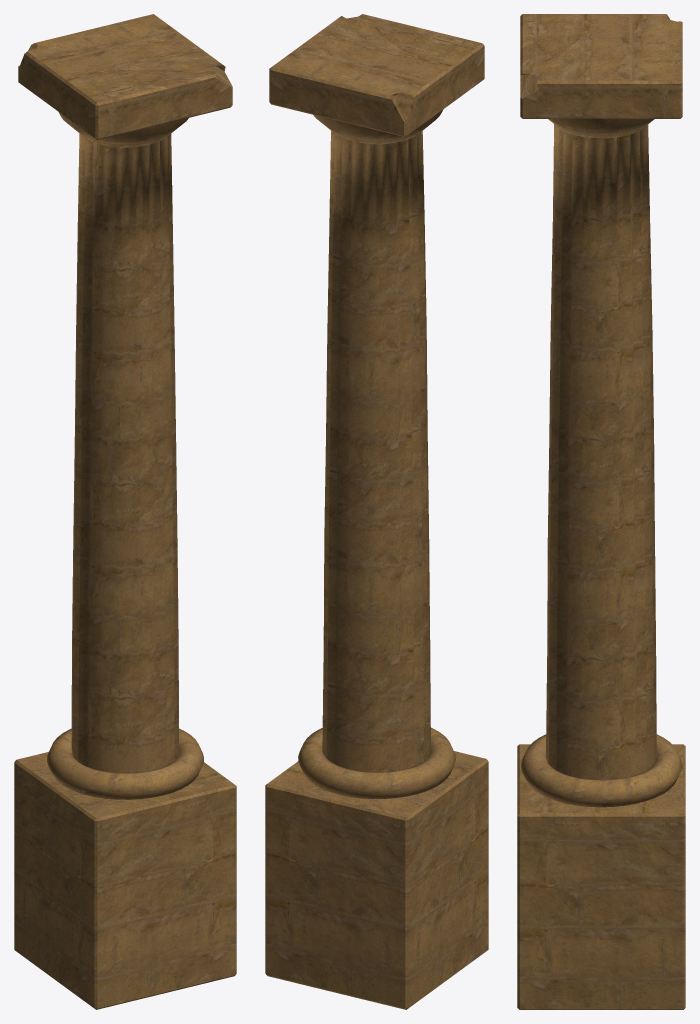
The model's file is column_intact.glb.
3 views of the same model, side by side, from view 1: azimuth 30°, elevation 25°; view 2: azimuth 150°, elevation 25°; view 3: azimuth 270°, elevation 25° (orthographic). The views are drawn at different scales.
Visible parts, largest first — view 1: column_intact; view 2: column_intact; view 3: column_intact.
Part boxes in pixels (x1=…): column_intact: x1=14, y1=14, x2=236, y2=1009; column_intact: x1=265, y1=14, x2=488, y2=1009; column_intact: x1=517, y1=14, x2=685, y2=1009.
Size of the model in its own units: 1.4 by 8.5 by 1.4.
Materials: 1 (1 with a texture image).
